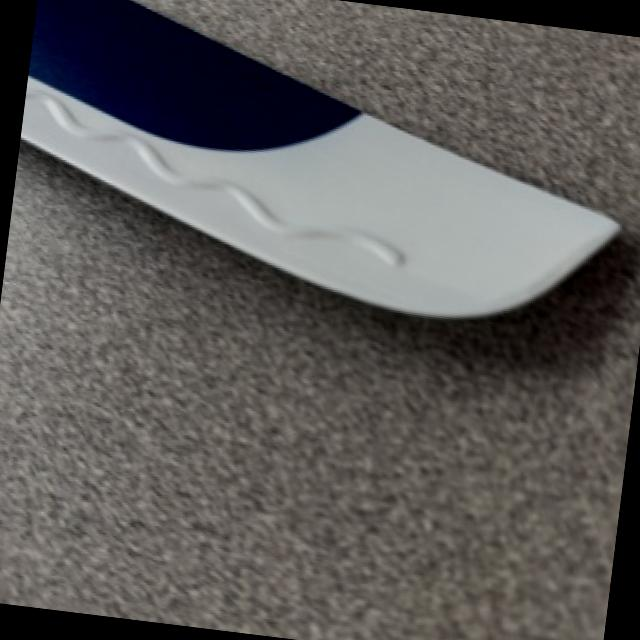healthy: (22, 0, 621, 316)
